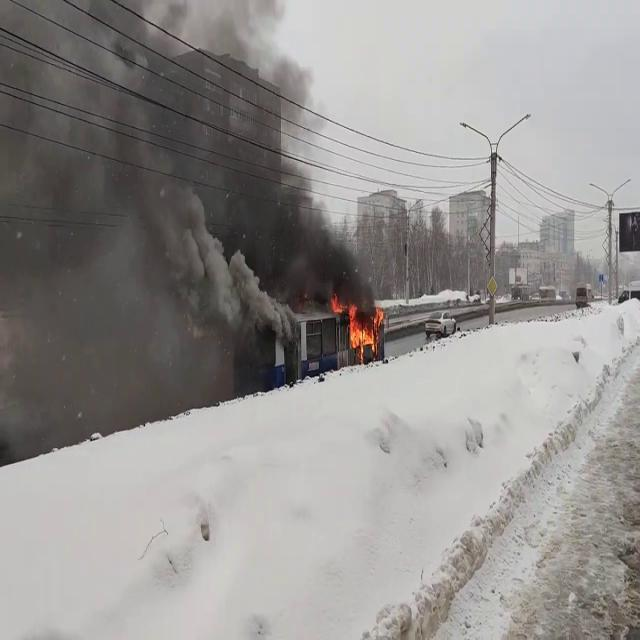Fire: (332, 296, 384, 359)
Smoke: (0, 0, 372, 346)
